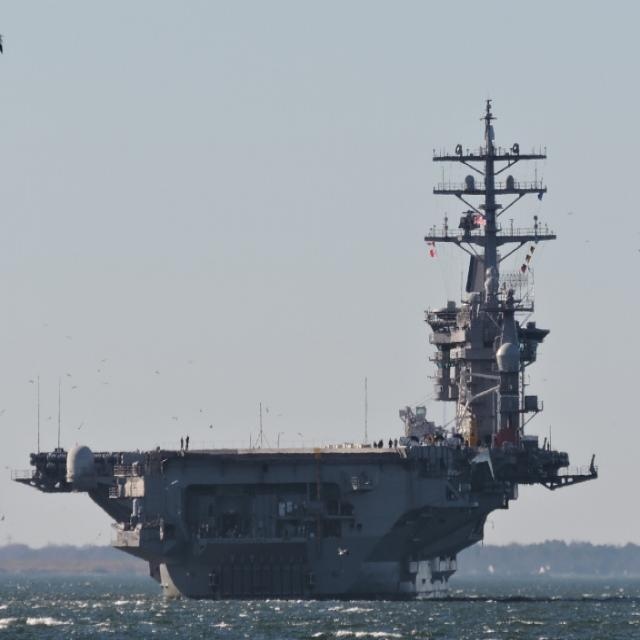Portanaves: (7, 93, 609, 604)
